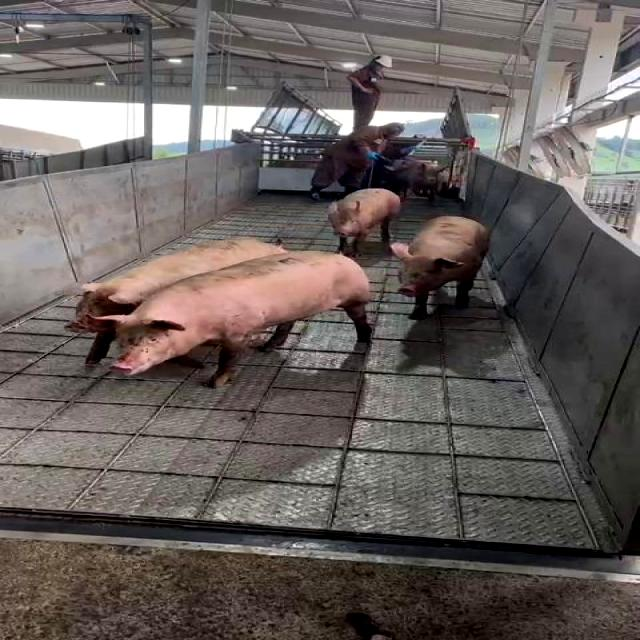pig: (100, 254, 371, 385), (66, 238, 285, 363), (392, 216, 489, 317), (329, 189, 399, 257)
